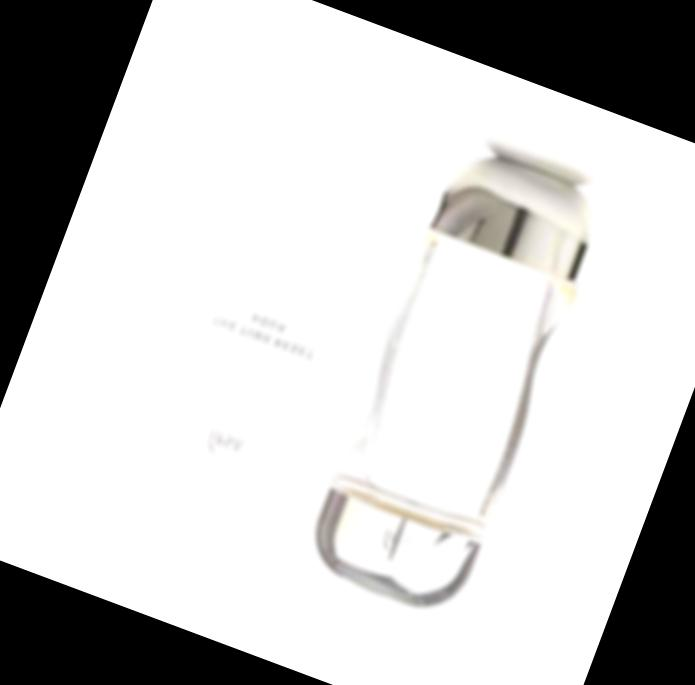cosmetic: (301, 138, 620, 625)
